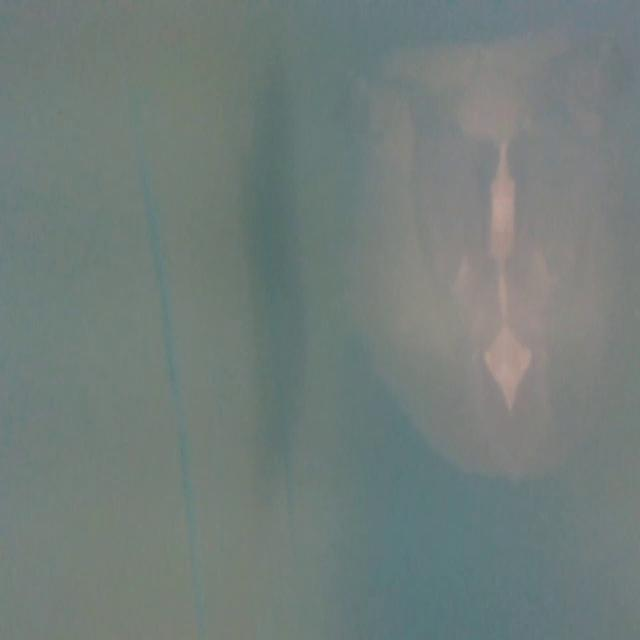plastic bags: (316, 17, 640, 491)
